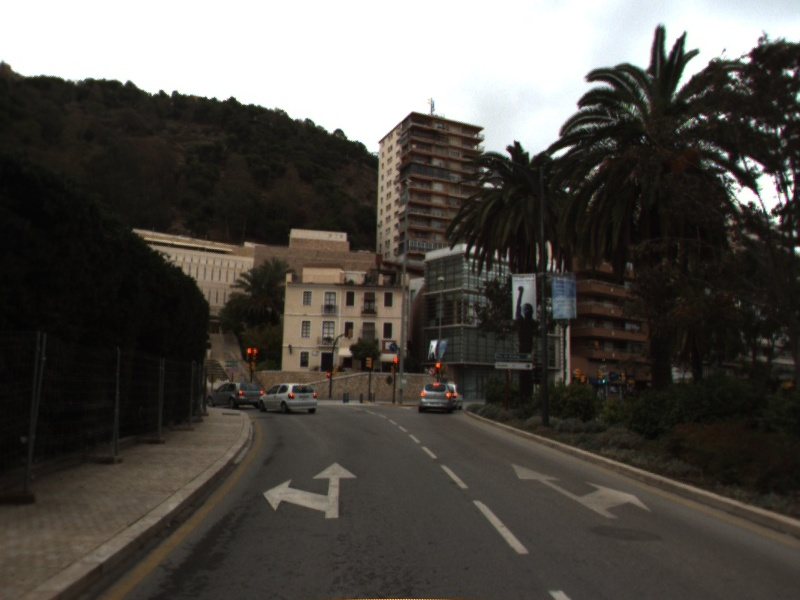STRAIGHT_LEFT: (261, 461, 359, 520)
STRAIGHT_RIGHT: (510, 462, 652, 520)
